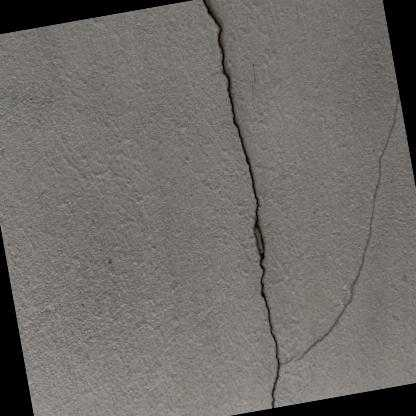crack: (203, 0, 280, 408)
